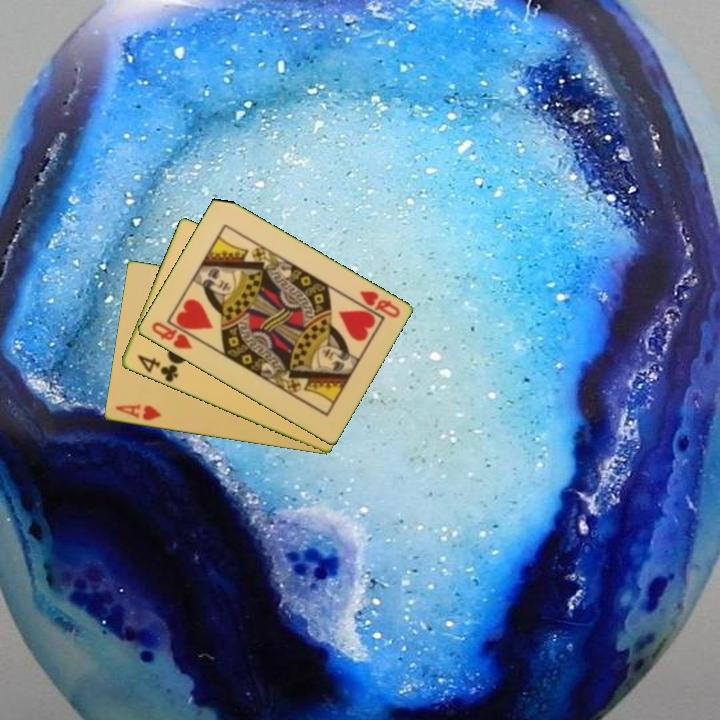4c: (133, 351, 181, 385)
Ah: (111, 401, 164, 424)
Qh: (147, 318, 195, 352), (355, 287, 403, 321)
